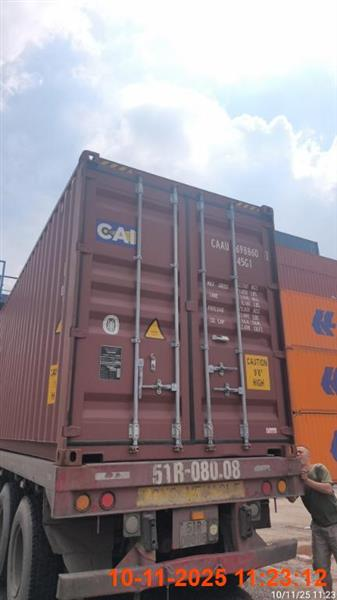broken: (0, 149, 332, 599), (296, 446, 336, 592)
